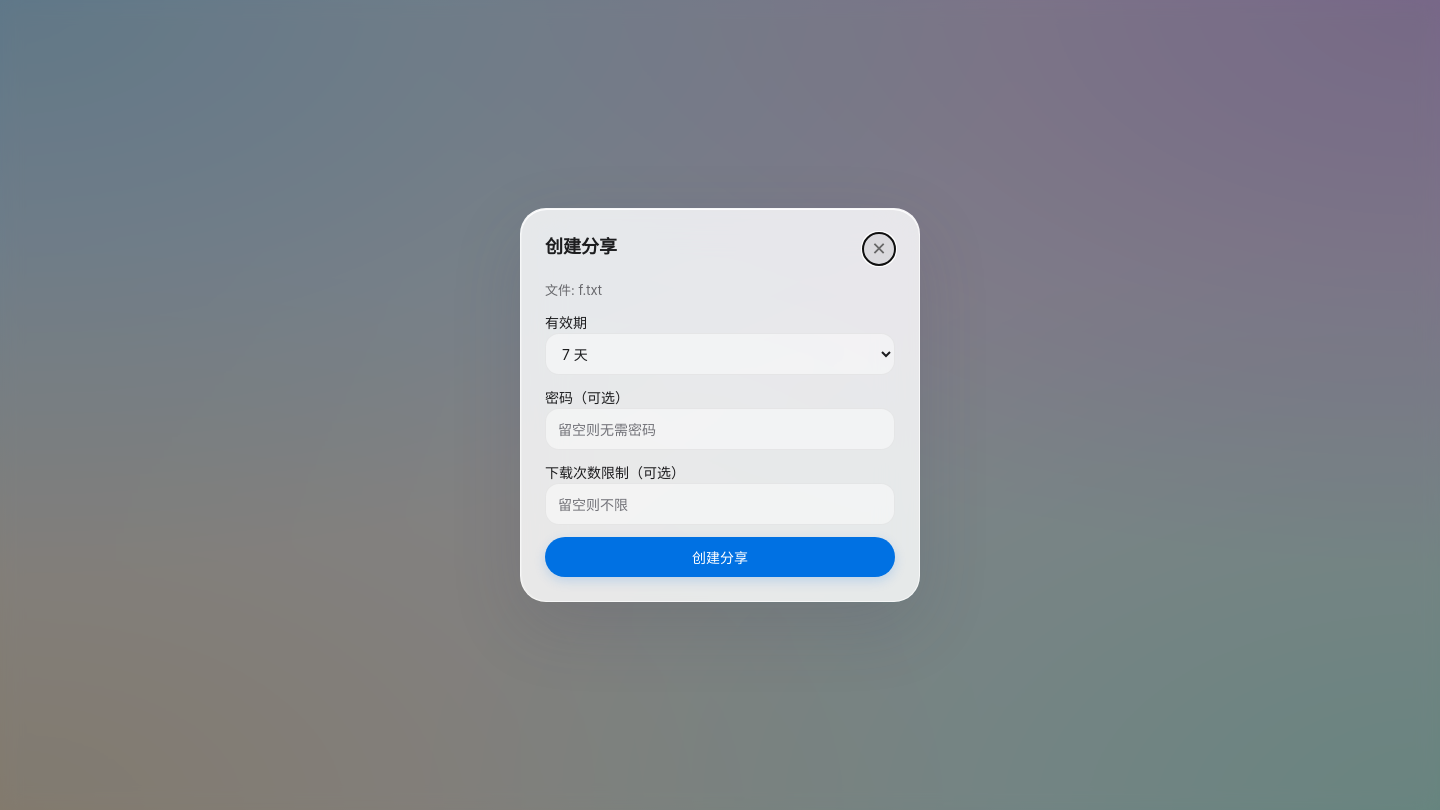
Test: CreateShareDialog › 创建成功展示链接与密码
The image size is (1440, 810).
Type "pw1" into the field labelled "密码" at point(720, 429), box [545,408,895,450]
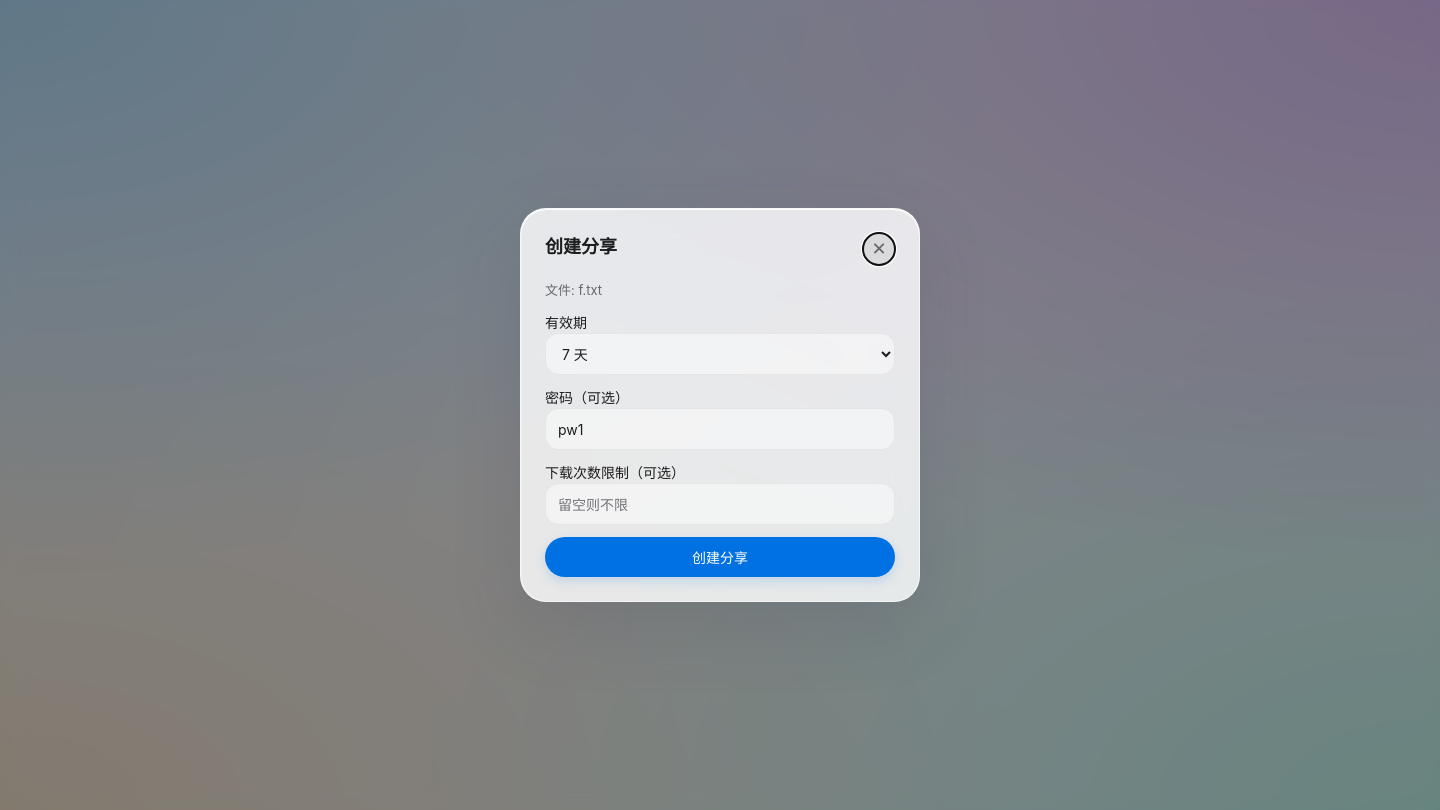
Click the button "创建分享" at point(720, 557), box [545,537,895,577]
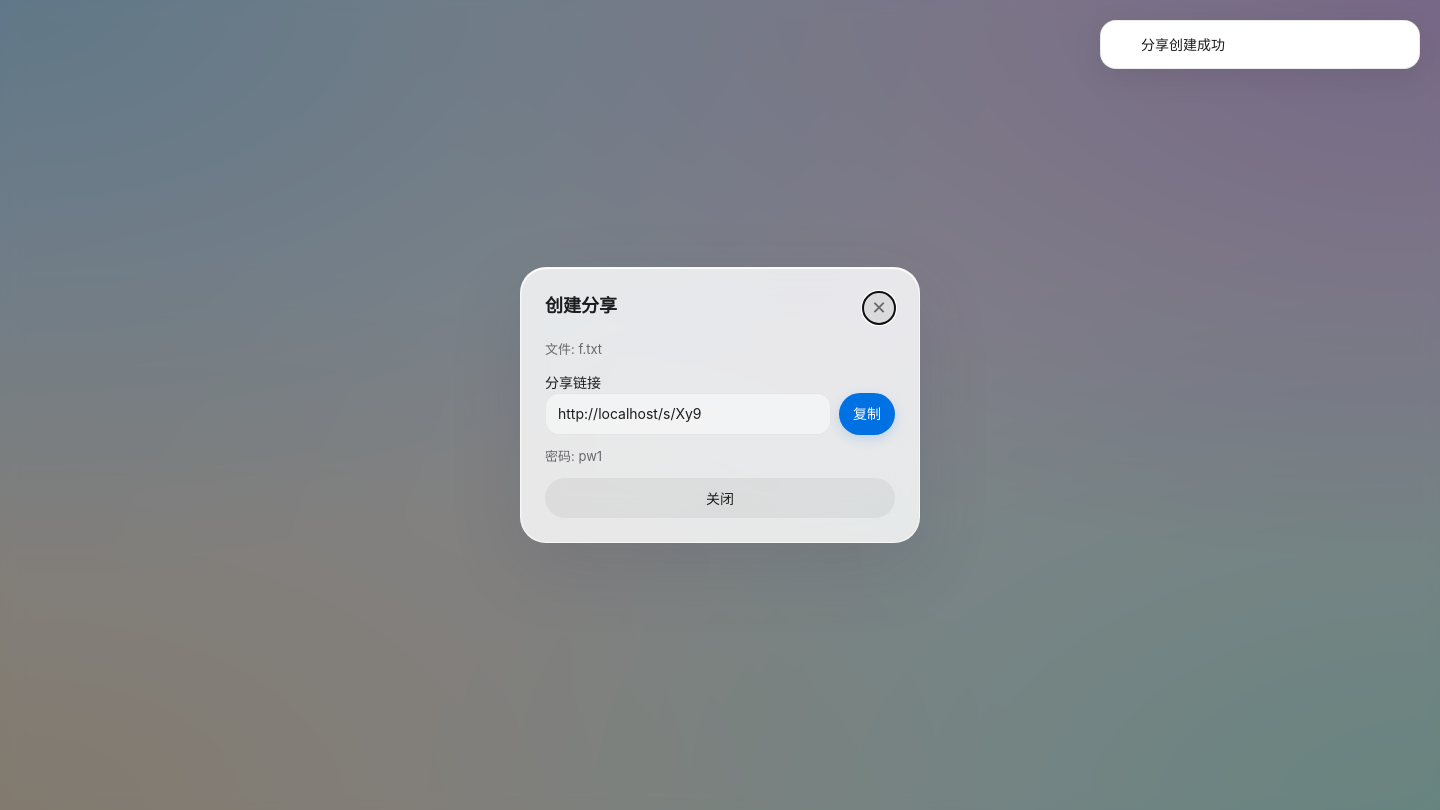
Result: the field labelled "分享链接" is shown at [545,392,831,434]
Result: the text "密码: pw1" is shown at [545,448,602,464]
